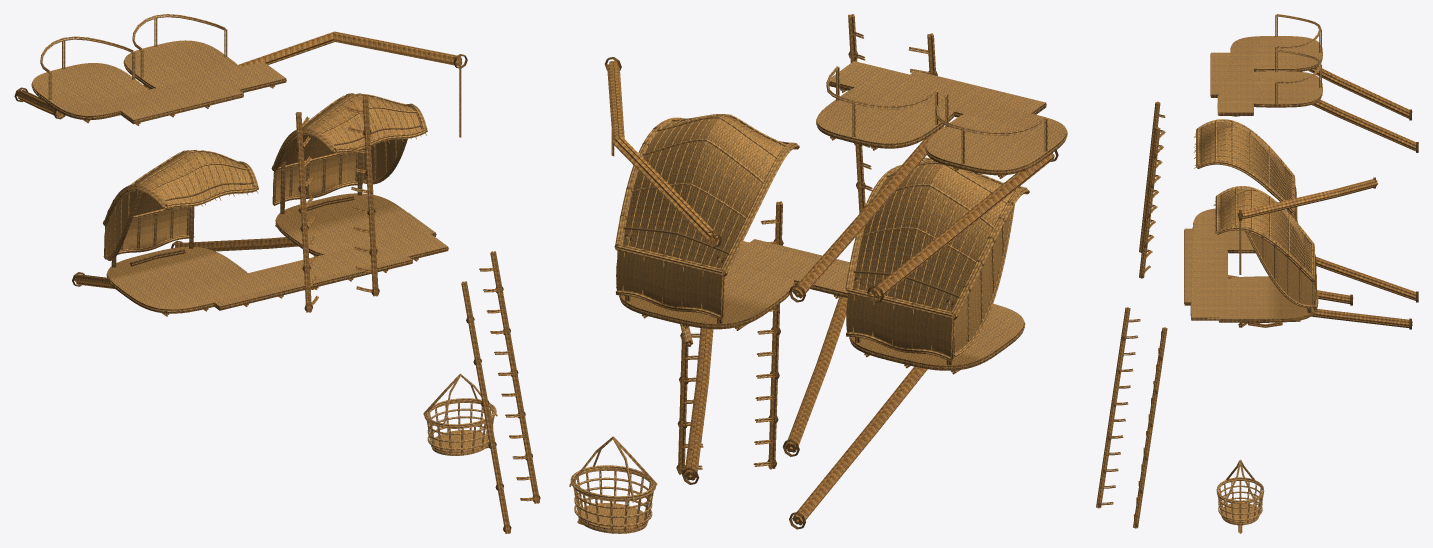
Rendered from longbough-woven-kit.glb.
3 renders of one model, left to right at view 1: azimuth 30°, elevation 25°; view 2: azimuth 150°, elevation 25°; view 3: azimuth 270°, elevation 25°, orthographic. The views are drawn at different scales.
Parts seen in each view (by area): view 1: home-deck, middle-deck, home-hood-right, home-hood-left, home-ladder, middle-ladder, basket-weave, basket-guide, home-support, middle-rails, middle-support; view 2: home-hood-left, home-hood-right, middle-deck, home-deck, home-support, middle-support, basket-weave, home-ladder, basket-guide, middle-rails, middle-ladder; view 3: home-deck, middle-deck, home-hood-right, home-hood-left, home-ladder, home-support, middle-support, basket-weave, middle-ladder, basket-guide, middle-rails, basket-landing-weave.
Part boxes in pixels (x1,y1,x2,y2): home-deck: [106, 193, 448, 313]; middle-deck: [31, 40, 286, 124]; home-hood-right: [271, 93, 427, 214]; home-hood-left: [103, 150, 258, 267]; home-ladder: [461, 251, 540, 533]; middle-ladder: [295, 95, 379, 312]; basket-weave: [423, 373, 497, 455]; basket-guide: [238, 31, 488, 455]; home-support: [72, 224, 418, 316]; middle-rails: [40, 14, 227, 100]; middle-support: [14, 84, 274, 125]; home-hood-left: [845, 159, 1029, 365]; home-hood-right: [614, 114, 799, 323]; middle-deck: [816, 61, 1067, 175]; home-deck: [619, 239, 1025, 370]; home-support: [642, 290, 959, 529]; middle-support: [789, 89, 1058, 302]; basket-weave: [569, 436, 657, 533]; home-ladder: [676, 201, 783, 474]; basket-guide: [577, 57, 721, 524]; middle-rails: [826, 66, 1047, 164]; middle-ladder: [848, 14, 937, 213]; home-deck: [1184, 208, 1318, 322]; middle-deck: [1210, 36, 1322, 115]; home-hood-right: [1213, 186, 1316, 313]; home-hood-left: [1193, 119, 1297, 221]; home-ladder: [1096, 307, 1167, 528]; home-support: [1228, 256, 1418, 329]; middle-support: [1232, 67, 1418, 152]; basket-weave: [1216, 459, 1264, 525]; middle-ladder: [1139, 101, 1165, 278]; basket-guide: [1237, 177, 1377, 533]; middle-rails: [1275, 14, 1321, 103]; basket-landing-weave: [1218, 313, 1300, 327].
Bounding box in the file's own units: 5.84 × 6.13 × 4.93.
Materials: 2 (1 with a texture image).
